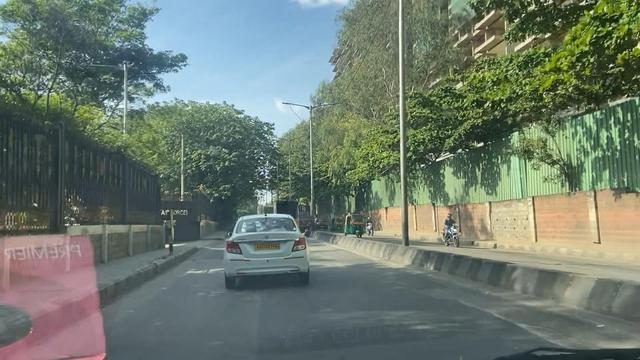RoadDamages: (444, 289, 595, 354)
